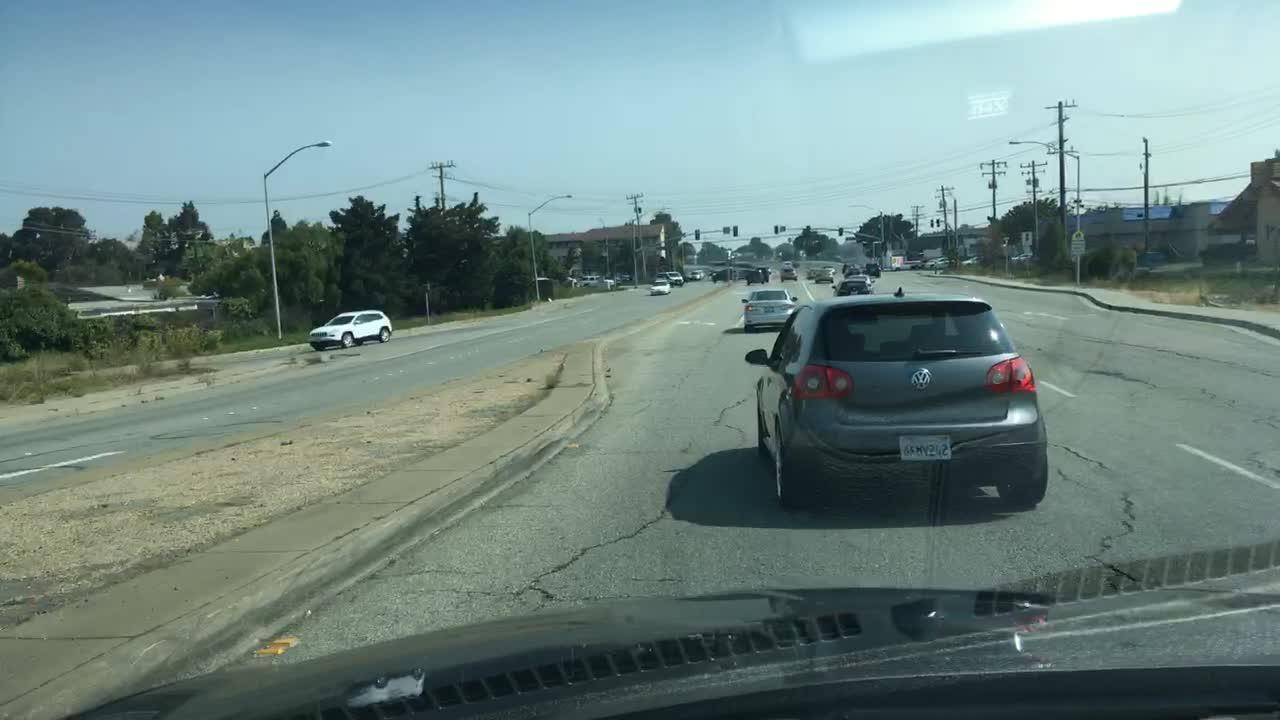Volkswagen: (907, 367, 933, 392)
